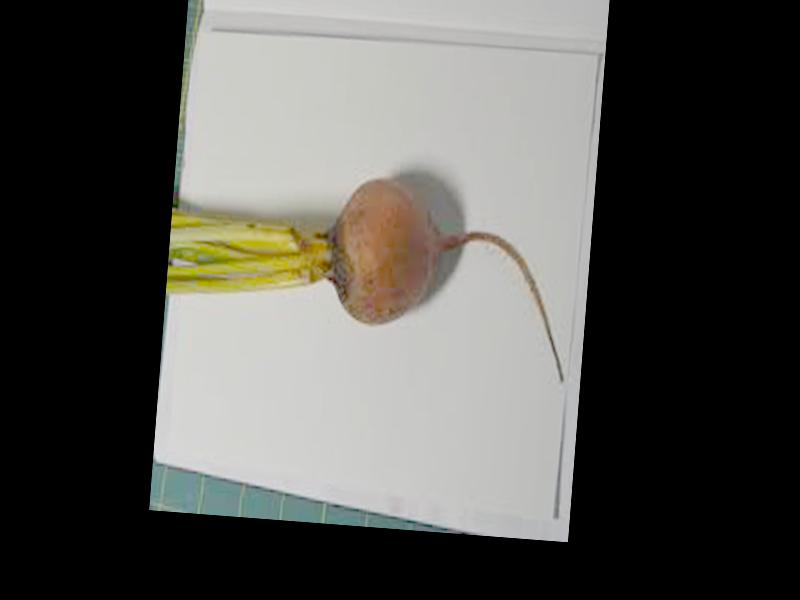Beet: (165, 163, 578, 381)
